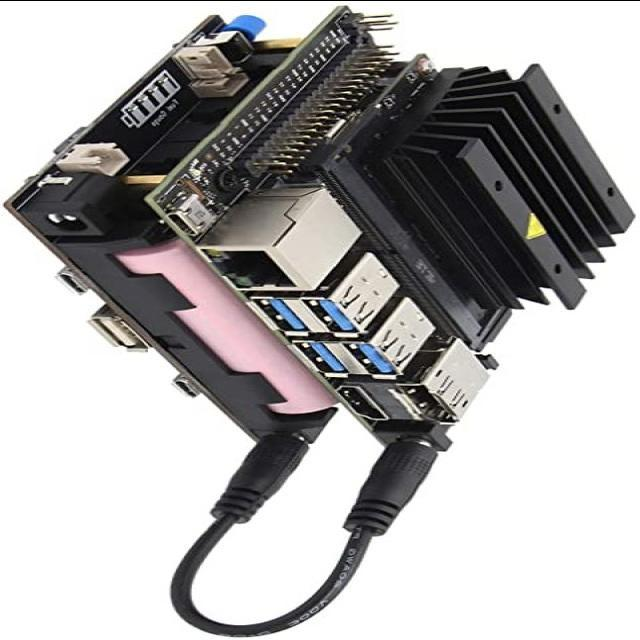Jetson Nano: (147, 3, 638, 453)
